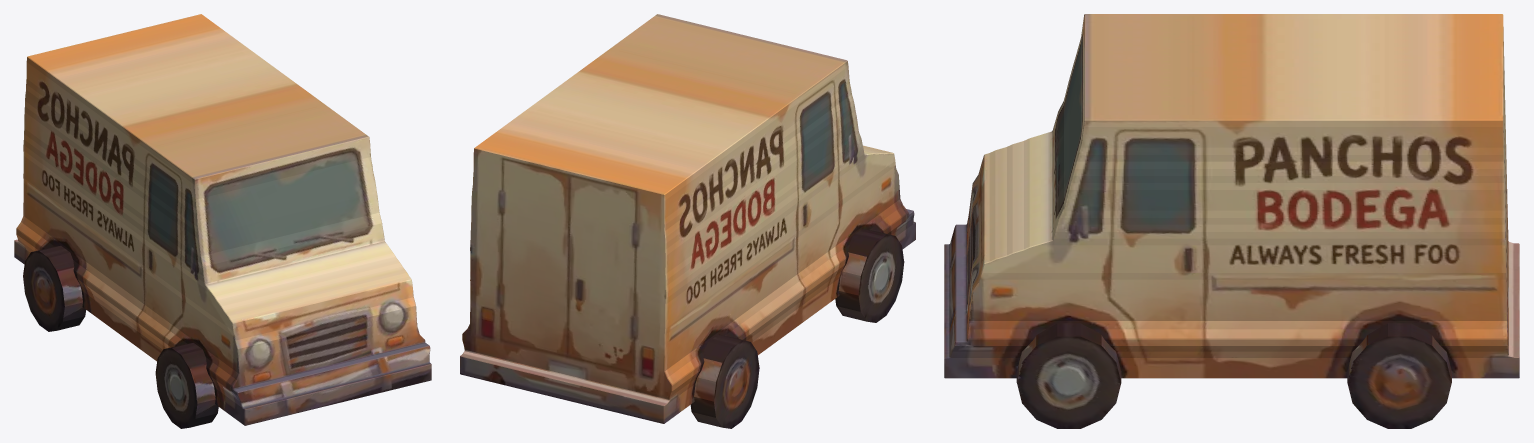
The model's file is truck.glb.
The picture shows the model from 3 angles, left to right: view 1: azimuth 30°, elevation 25°; view 2: azimuth 150°, elevation 25°; view 3: azimuth 270°, elevation 25°; orthographic projection. The views are drawn at different scales.
Parts seen in each view (by area): view 1: truck; view 2: truck; view 3: truck.
Part boxes in pixels (x1=…): truck: x1=14, y1=14, x2=431, y2=428; truck: x1=460, y1=14, x2=915, y2=428; truck: x1=944, y1=14, x2=1519, y2=428.
Bounding box in the file's own units: 2.59 × 2.61 × 4.62.
1 material, 1 textured.
